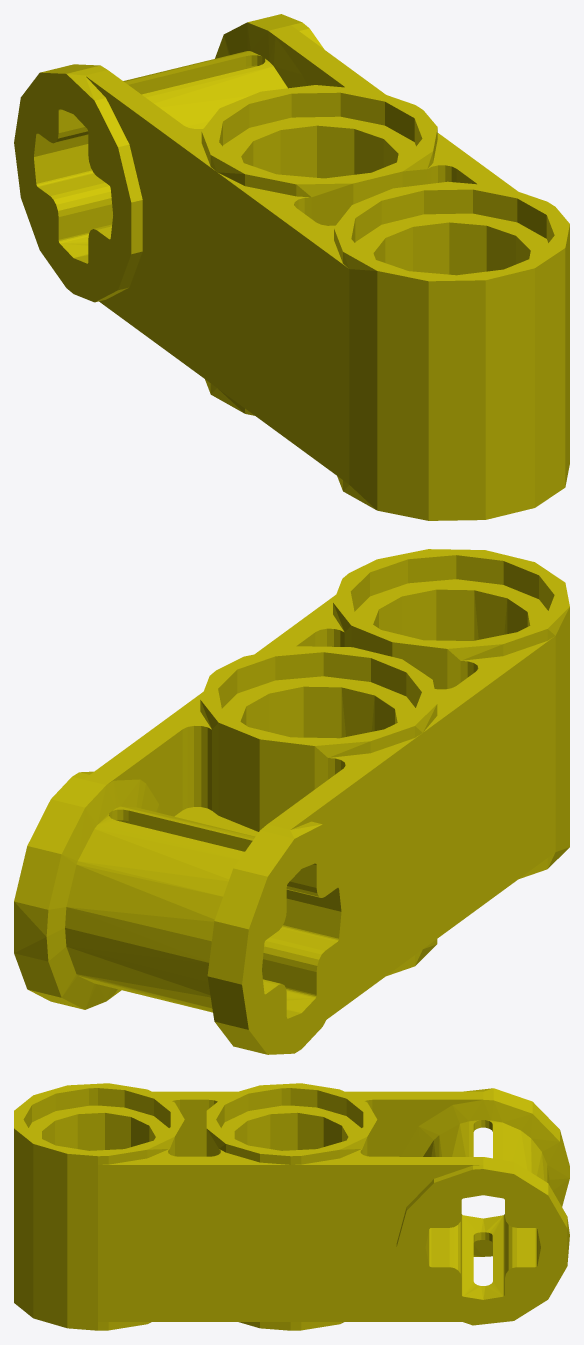
File: Ye_4175441_MCM.fbx
The picture shows the model from 3 angles, top to bottom: view 1: azimuth 30°, elevation 25°; view 2: azimuth 150°, elevation 25°; view 3: azimuth 270°, elevation 25°; orthographic projection. The views are drawn at different scales.
Parts seen in each view (by area): view 1: Ye_4175441_MCM; view 2: Ye_4175441_MCM; view 3: Ye_4175441_MCM.
Part boxes in pixels (bbox=[...]): Ye_4175441_MCM: bbox=[14, 14, 569, 520]; Ye_4175441_MCM: bbox=[14, 549, 569, 1054]; Ye_4175441_MCM: bbox=[14, 1083, 569, 1330].
Size of the model in its own units: 0.8 by 0.8 by 2.31.
